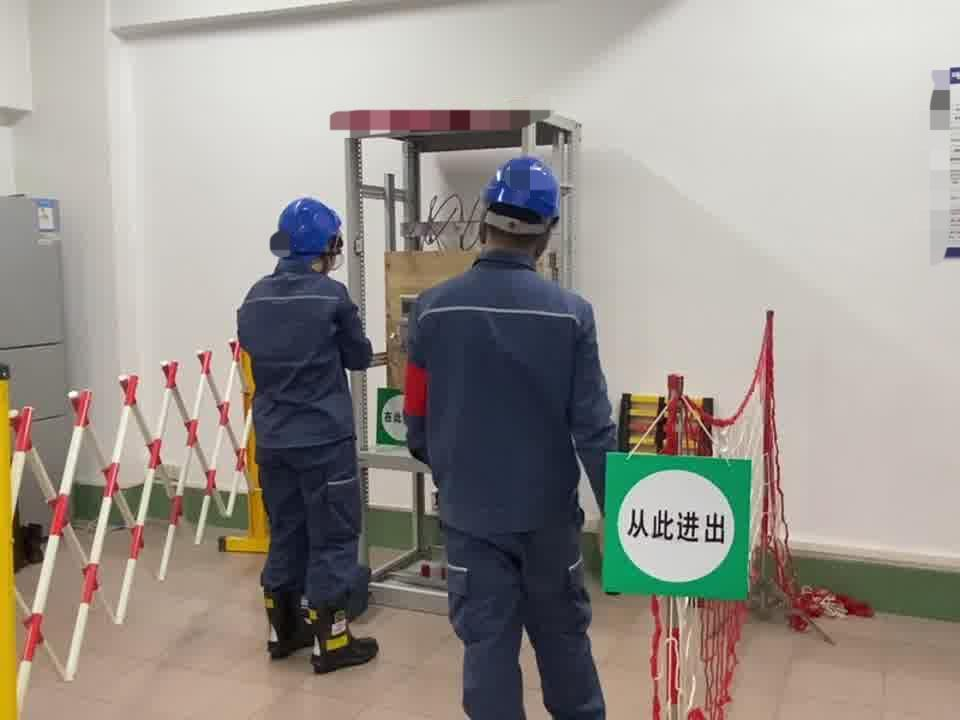halt: (481, 156, 565, 257)
